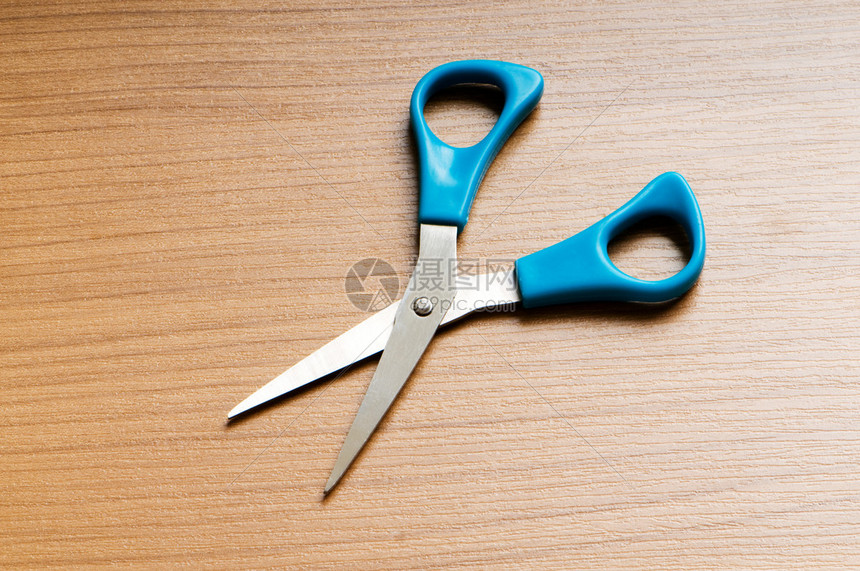scissors: (195, 55, 744, 504)
